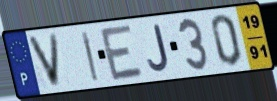0: (210, 12, 244, 69)
3: (177, 15, 209, 73)
E: (98, 22, 146, 83)
I: (79, 29, 100, 84)
J: (146, 22, 171, 73)
V: (25, 31, 63, 90)
